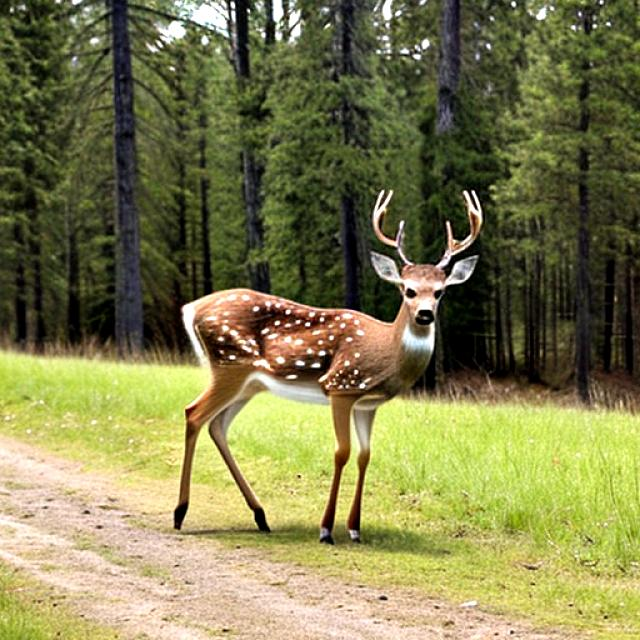deer: (121, 173, 509, 554)
